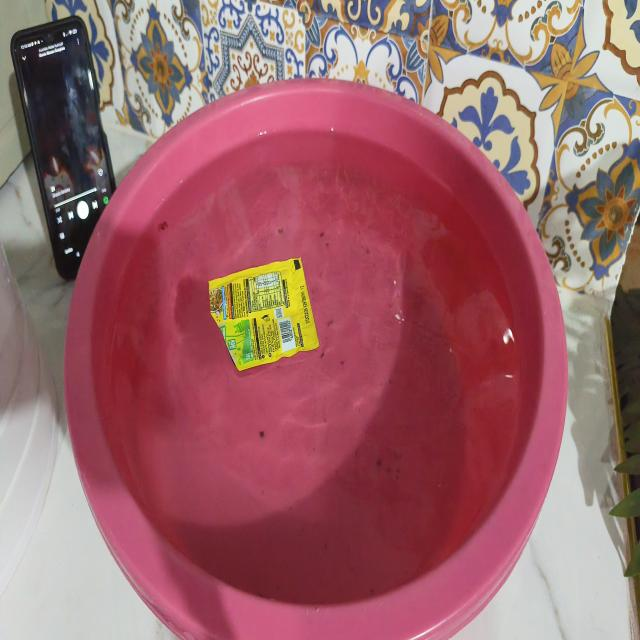Plastic Wrapper: (197, 233, 333, 394)
